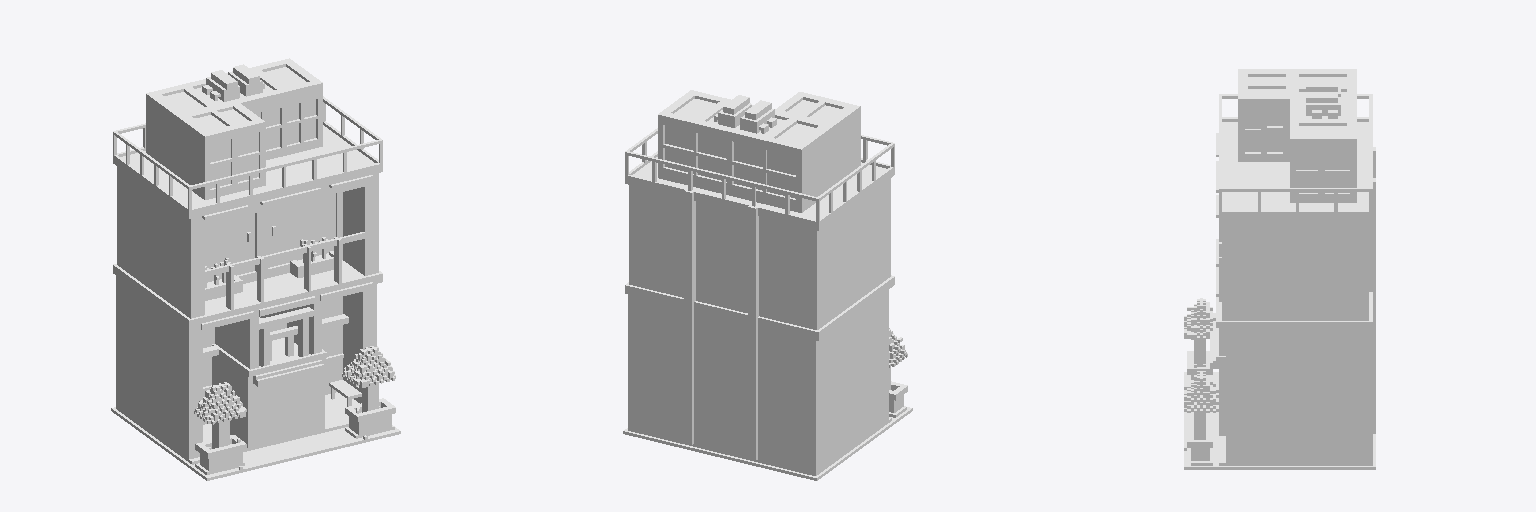
File: Edificio2.obj
The picture shows the model from 3 angles: view 1: azimuth 30°, elevation 25°; view 2: azimuth 150°, elevation 25°; view 3: azimuth 270°, elevation 25°; orthographic projection.
Visible parts, largest first — view 1: object 1; view 2: object 1; view 3: object 1.
Part boxes in pixels (bbox=[...]): object 1: bbox=[111, 58, 400, 480]; object 1: bbox=[623, 90, 912, 480]; object 1: bbox=[1184, 69, 1375, 469].
Bounding box in the file's own units: 7 × 11.5 × 6.